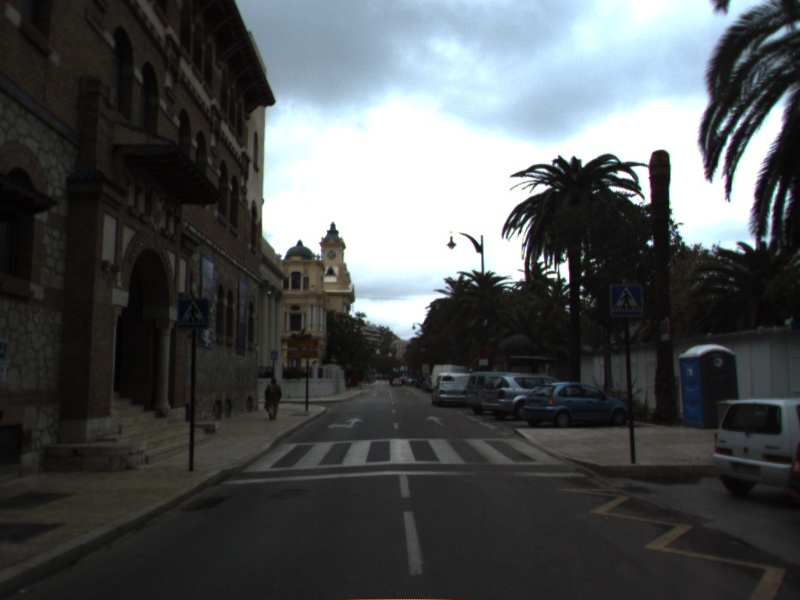STRAIGHT: (423, 413, 447, 428)
STRAIGHT_LEFT: (325, 416, 366, 431)
